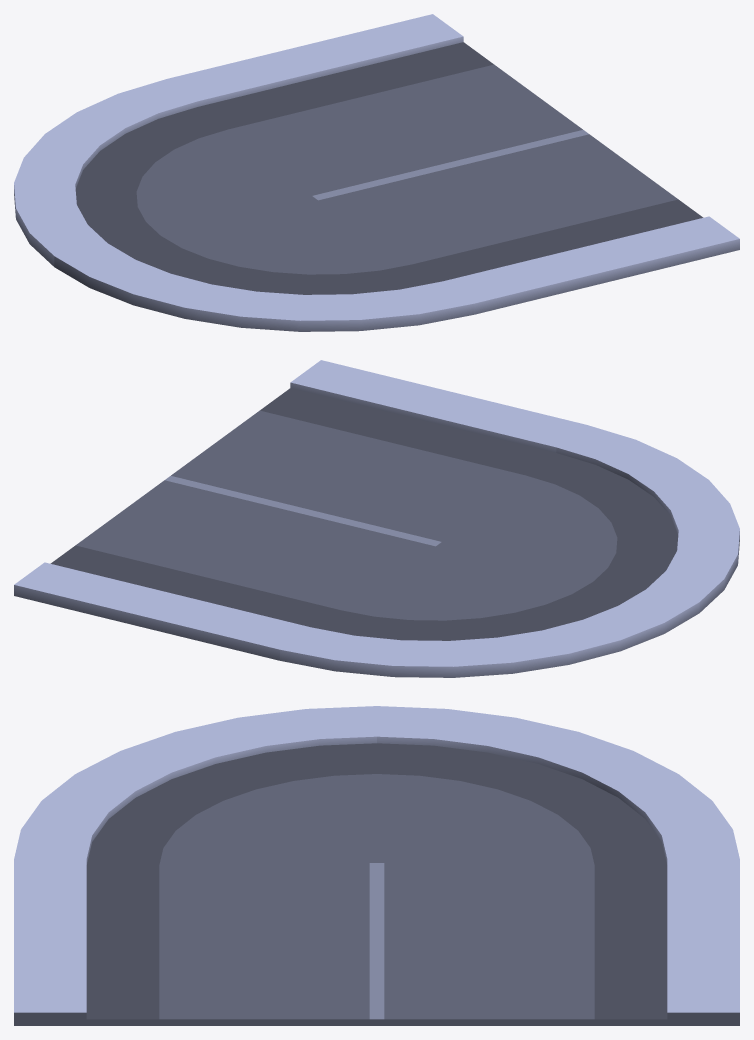
The model's file is road-end-round.fbx.
3 renders of one model, top to bottom at view 1: azimuth 30°, elevation 25°; view 2: azimuth 150°, elevation 25°; view 3: azimuth 270°, elevation 25°, orthographic. The views are drawn at different scales.
Visible parts, largest first — view 1: road-end-round; view 2: road-end-round; view 3: road-end-round.
Boxes of the visible parts, x1=… form: road-end-round: x1=14, y1=14, x2=739, y2=331; road-end-round: x1=14, y1=360, x2=739, y2=677; road-end-round: x1=14, y1=706, x2=739, y2=1025.
Bounding box in the file's own units: 100 × 2 × 100.
